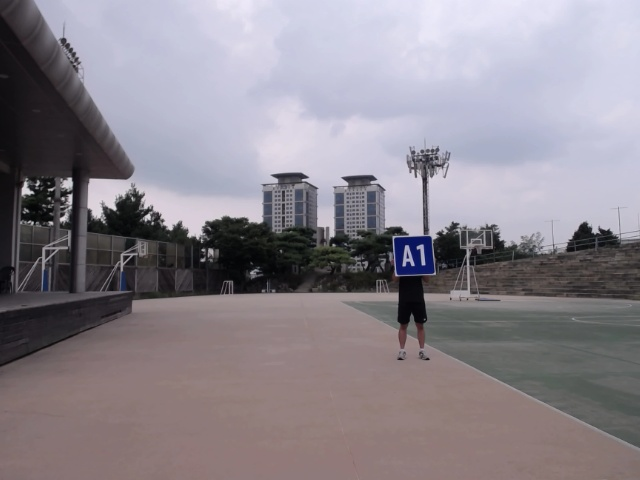delivery_a1: (394, 236, 436, 275)
